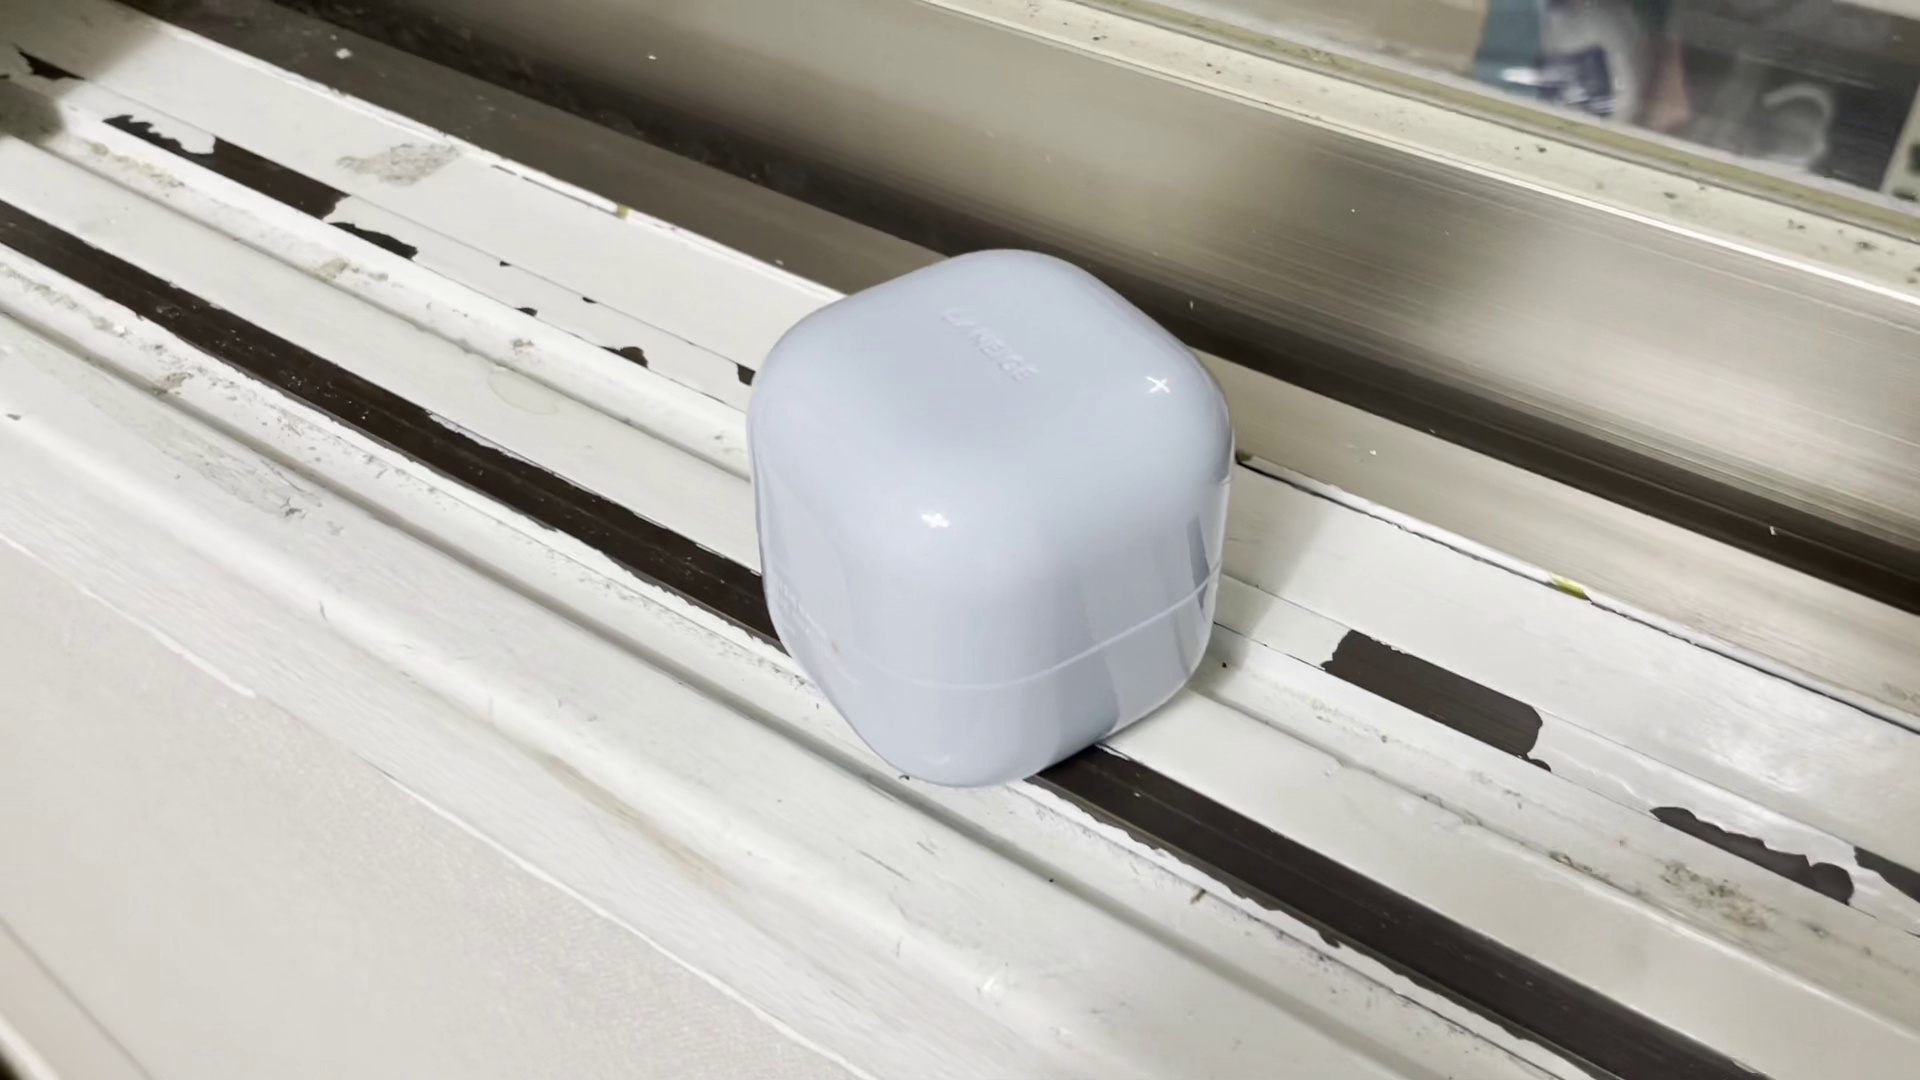cream: (750, 248, 1238, 789)
